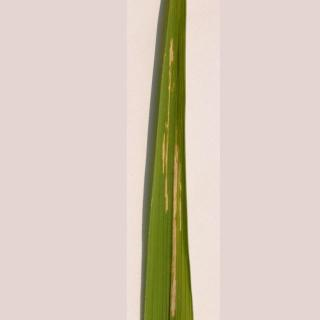Hawar-Daun: (150, 72, 190, 285)
